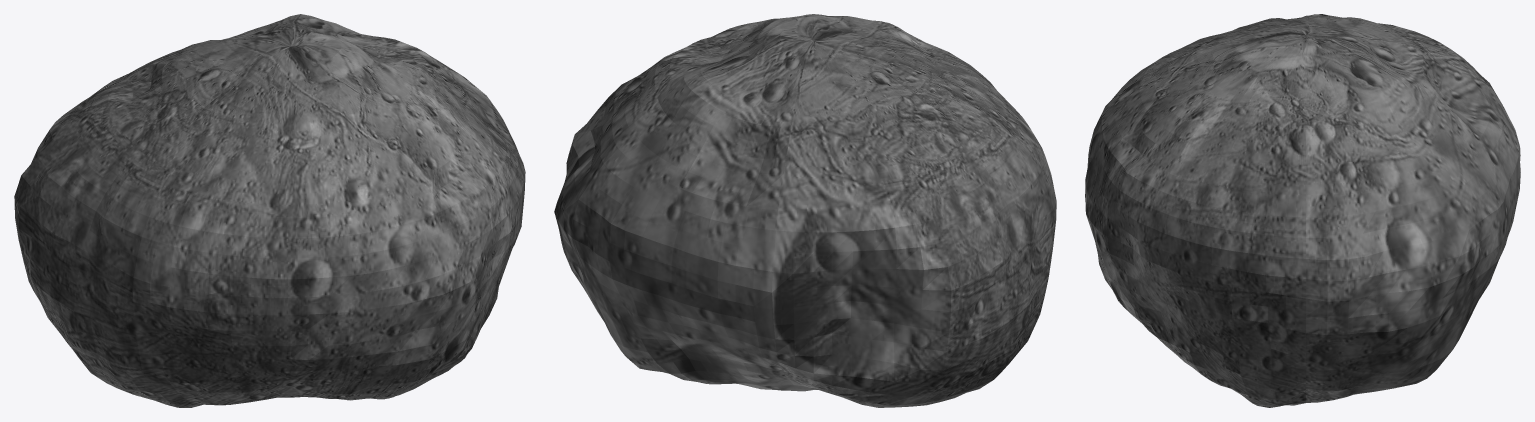
File: phobos.obj
3 views of the same model, side by side, from view 1: azimuth 30°, elevation 25°; view 2: azimuth 150°, elevation 25°; view 3: azimuth 270°, elevation 25° (orthographic). The views are drawn at different scales.
Parts seen in each view (by area): view 1: Object_1; view 2: Object_1; view 3: Object_1.
Part boxes in pixels (x1,y1,x2,y2): Object_1: (14, 14, 525, 407); Object_1: (554, 14, 1056, 407); Object_1: (1085, 14, 1520, 407).
Bounding box in the file's own units: 25.99 × 19.34 × 23.36.
Materials: 1 (1 with a texture image).
